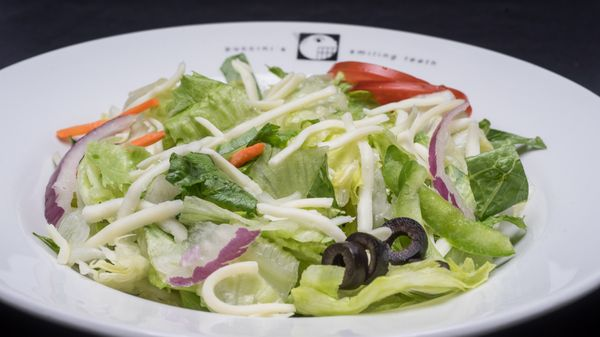curry: (3, 10, 599, 334)
pizza: (55, 97, 160, 143), (229, 142, 266, 167)
